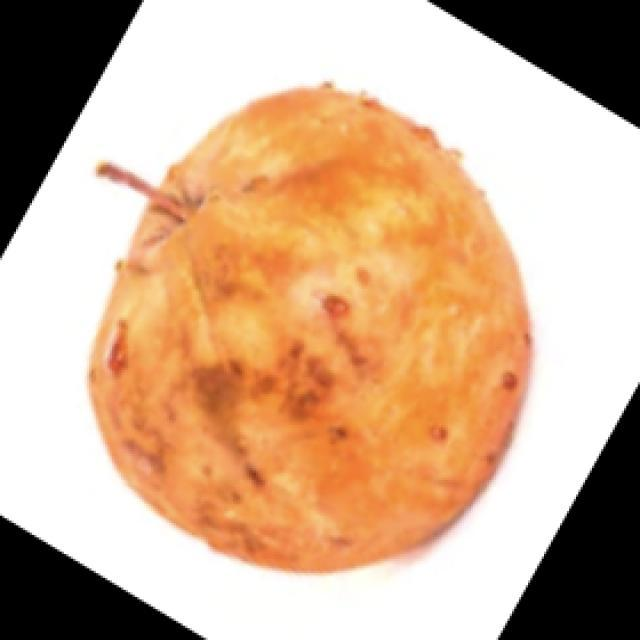Rotten: (66, 87, 532, 560)
